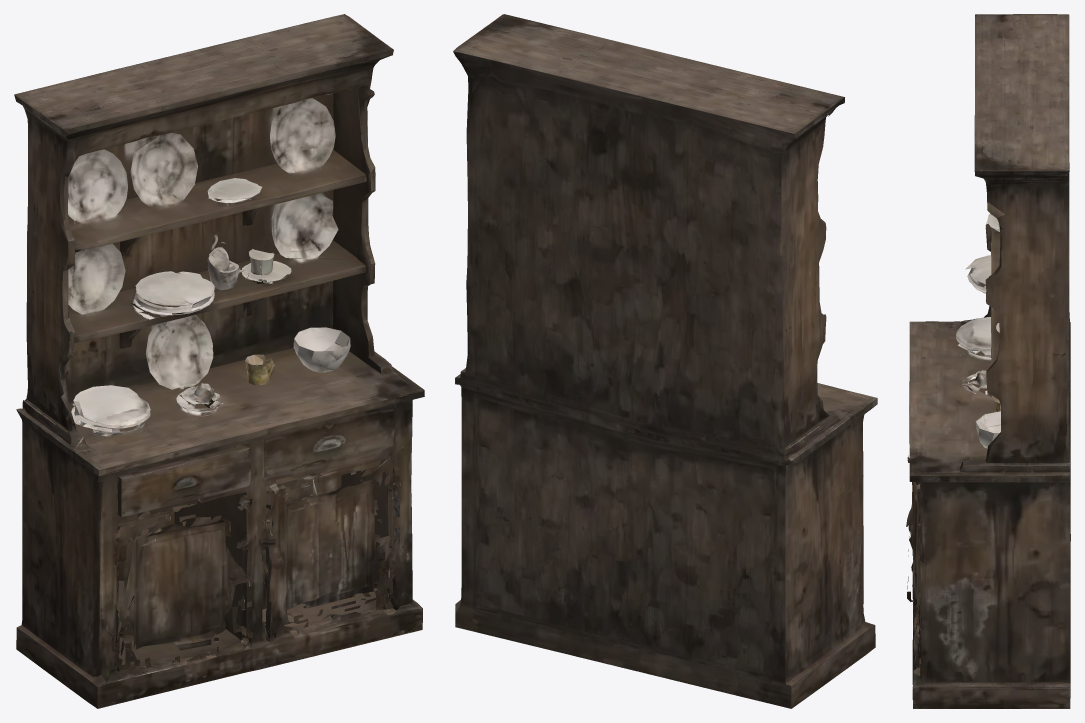
File: dresser.glb
3 renders of one model, left to right at view 1: azimuth 30°, elevation 25°; view 2: azimuth 150°, elevation 25°; view 3: azimuth 270°, elevation 25°, orthographic. The views are drawn at different scales.
Parts seen in each view (by area): view 1: Mesh_0; view 2: Mesh_0; view 3: Mesh_0.
Boxes of the visible parts, x1=… form: Mesh_0: x1=14, y1=14, x2=424, y2=708; Mesh_0: x1=453, y1=14, x2=877, y2=708; Mesh_0: x1=906, y1=14, x2=1070, y2=708.
Size of the model in its own units: 1.18 by 1.9 by 0.5265.
Materials: 1 (1 with a texture image).
